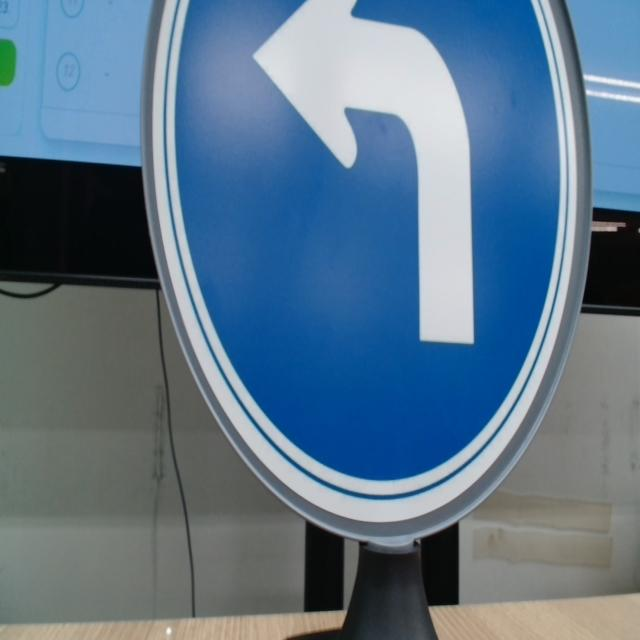left_direction: (134, 0, 600, 556)
